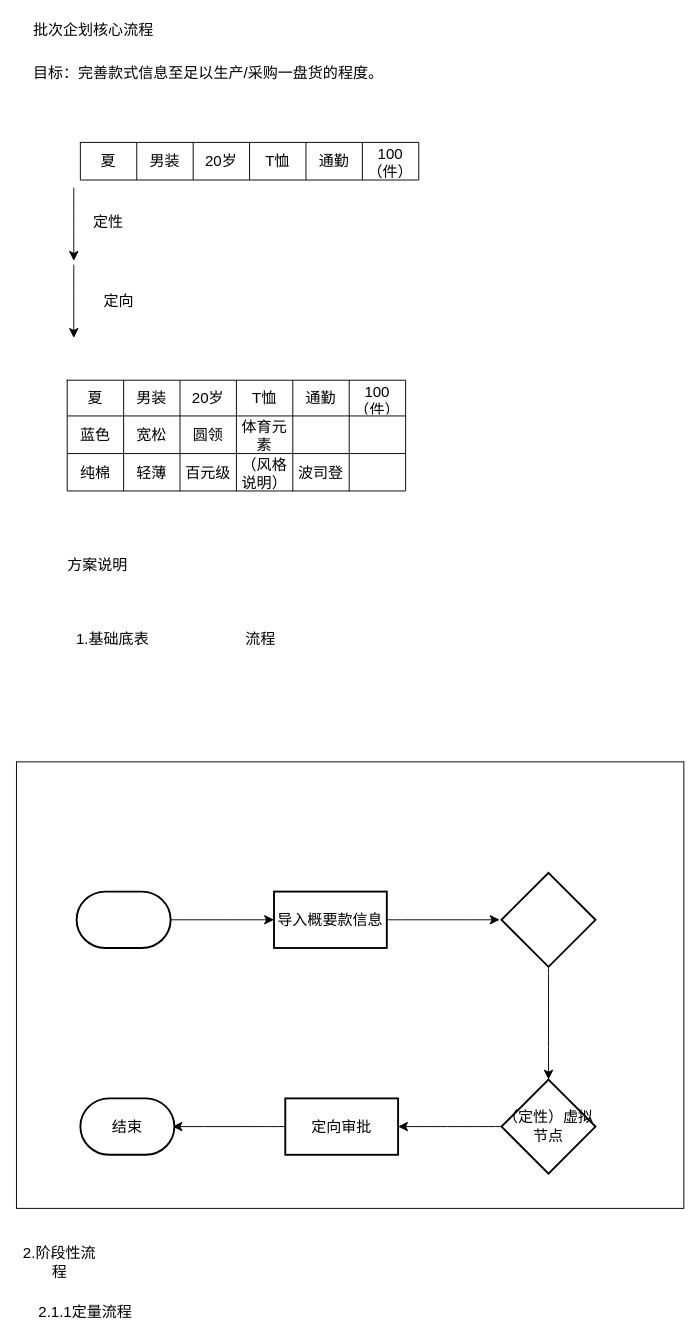
Some shapes in this 700 by 1341 pixel diagram are drawn without their labels. Each missing label, with the centre of its shape:
"开始" goes at point 123,919.
"虚拟节点" goes at point 548,919.
